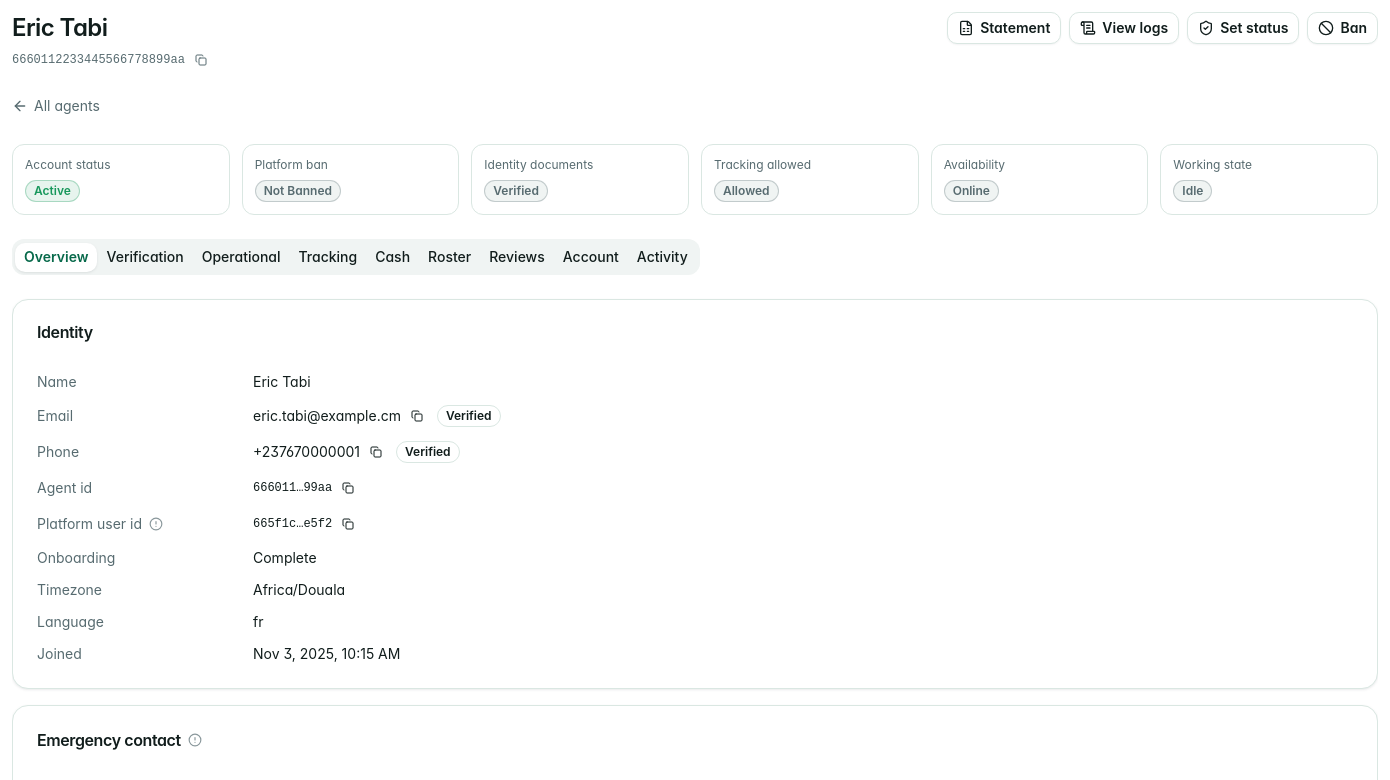
the tracking verdict › explains the undocumented agent_not_found deny reason
Click the tab "Tracking": (328, 257) [290,242,366,272]
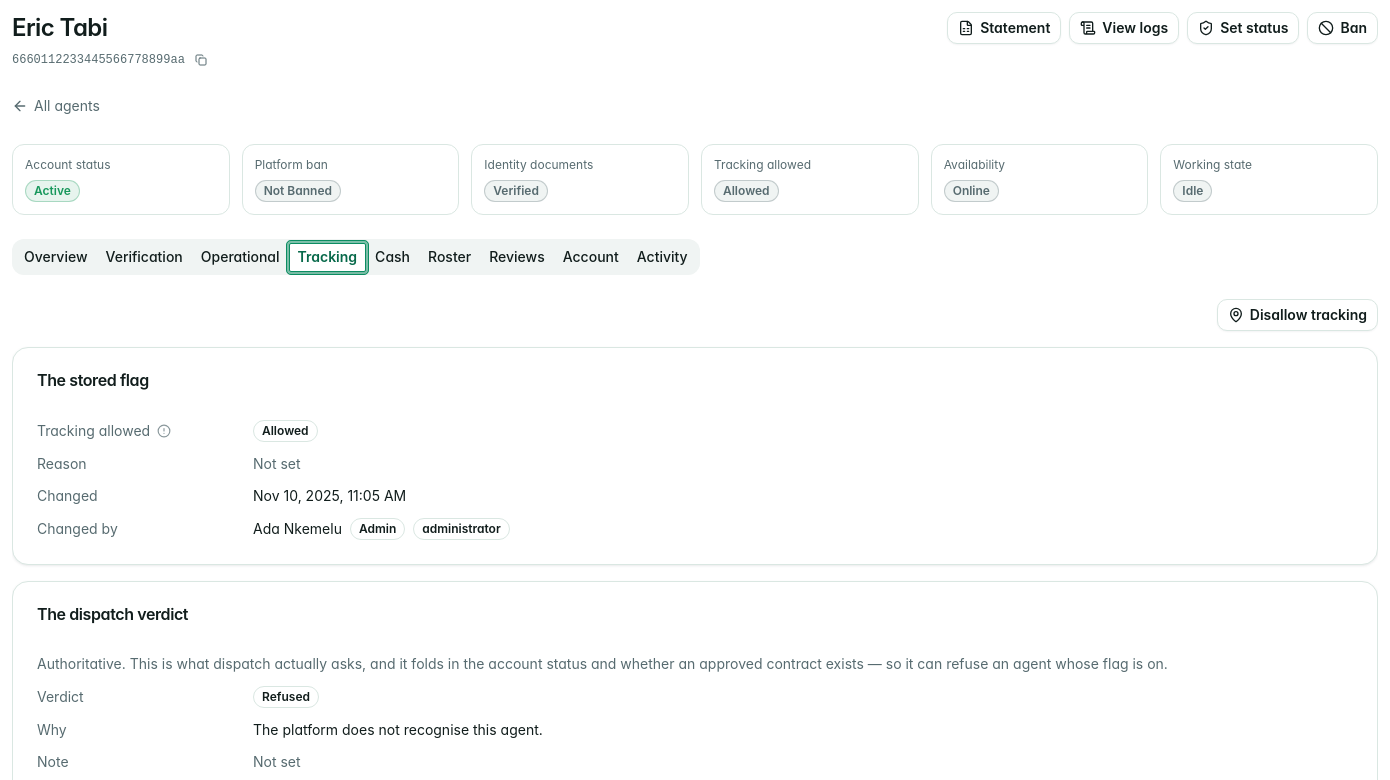
Result: the text "The platform does not recognise this agent." is shown at [253,721,543,738]
